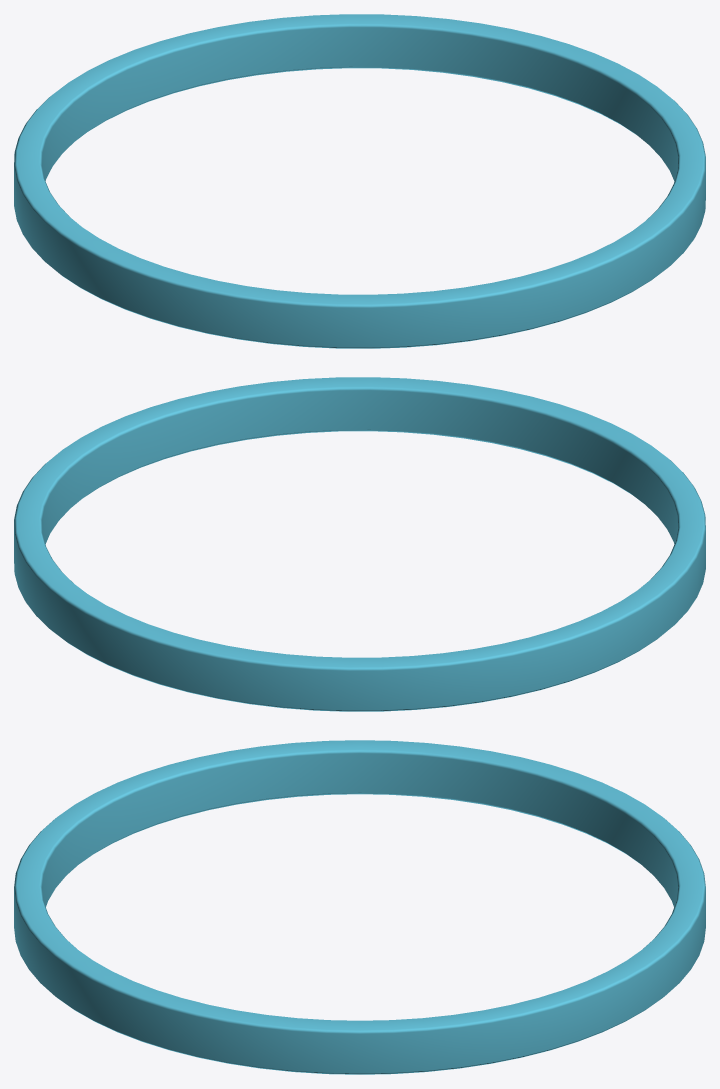
The picture shows the model from 3 angles, top to bottom: view 1: azimuth 30°, elevation 25°; view 2: azimuth 150°, elevation 25°; view 3: azimuth 270°, elevation 25°; orthographic projection.
Visible parts, largest first — view 1: seal_body; view 2: seal_body; view 3: seal_body.
Boxes of the visible parts, <box> form: seal_body: <box>14,14,705,348</box>; seal_body: <box>14,377,705,711</box>; seal_body: <box>14,740,705,1074</box>.
Size of the model in its own units: 0.1404 by 0.01 by 0.1404.
